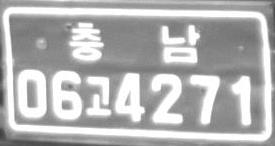0: (15, 67, 48, 118)
1: (228, 74, 259, 126)
2: (150, 73, 183, 125)
4: (114, 72, 146, 122)
6: (50, 69, 83, 120)
7: (189, 73, 219, 126)
고: (85, 76, 111, 117)
충남_D: (69, 21, 200, 63)
